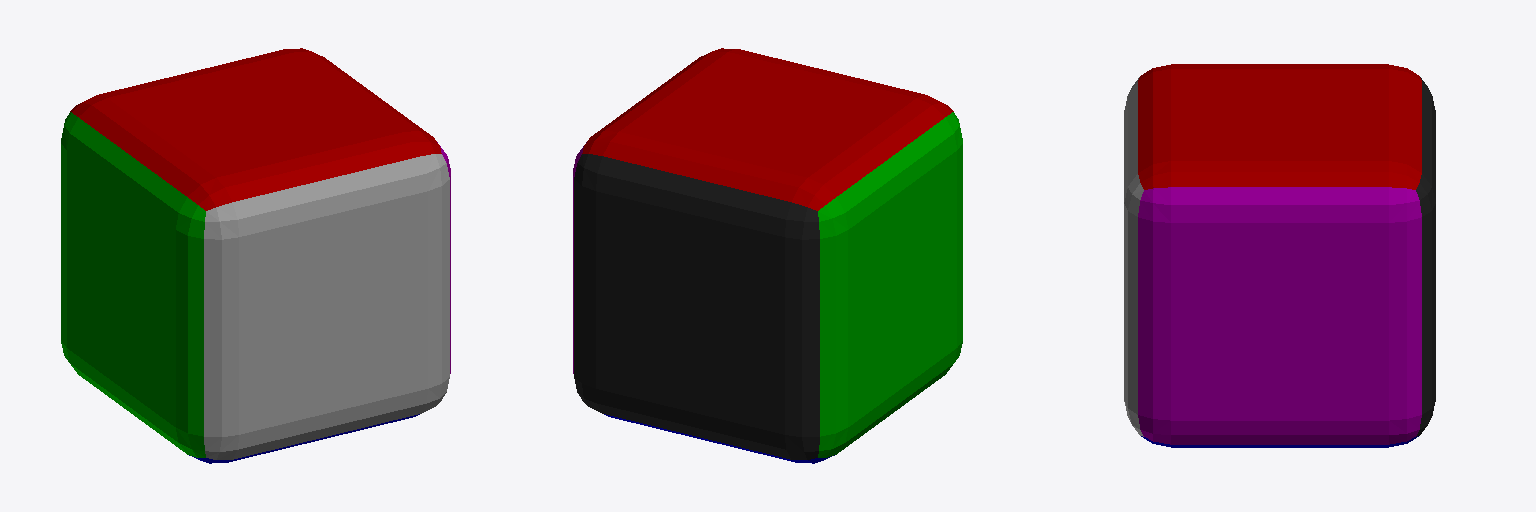
File: rounded_cube.obj
The picture shows the model from 3 angles: view 1: azimuth 30°, elevation 25°; view 2: azimuth 150°, elevation 25°; view 3: azimuth 270°, elevation 25°; orthographic projection.
Visible parts, largest first — view 1: Rounded_Cube_Front_Rounded_Cube_Cube_Front, Rounded_Cube_Left_Rounded_Cube_Cube_Left, Rounded_Cube_Top_Rounded_Cube_Cube_Top; view 2: Rounded_Cube_Back_Rounded_Cube_Cube_Back, Rounded_Cube_Left_Rounded_Cube_Cube_Left, Rounded_Cube_Top_Rounded_Cube_Cube_Top; view 3: Rounded_Cube_Right_Rounded_Cube_Cube_Right, Rounded_Cube_Top_Rounded_Cube_Cube_Top, Rounded_Cube_Front_Rounded_Cube_Cube_Front, Rounded_Cube_Back_Rounded_Cube_Cube_Back, Rounded_Cube_Bottom_Rounded_Cube_Cube_Bottom.
Part boxes in pixels (bbox=[...]): Rounded_Cube_Front_Rounded_Cube_Cube_Front: bbox=[204, 154, 449, 459]; Rounded_Cube_Left_Rounded_Cube_Cube_Left: bbox=[61, 112, 205, 457]; Rounded_Cube_Top_Rounded_Cube_Cube_Top: bbox=[70, 48, 441, 210]; Rounded_Cube_Back_Rounded_Cube_Cube_Back: bbox=[574, 154, 819, 459]; Rounded_Cube_Left_Rounded_Cube_Cube_Left: bbox=[818, 112, 962, 457]; Rounded_Cube_Top_Rounded_Cube_Cube_Top: bbox=[582, 48, 953, 210]; Rounded_Cube_Right_Rounded_Cube_Cube_Right: bbox=[1138, 187, 1421, 444]; Rounded_Cube_Top_Rounded_Cube_Cube_Top: bbox=[1138, 64, 1421, 189]; Rounded_Cube_Front_Rounded_Cube_Cube_Front: bbox=[1124, 77, 1143, 436]; Rounded_Cube_Back_Rounded_Cube_Cube_Back: bbox=[1416, 77, 1435, 436]; Rounded_Cube_Bottom_Rounded_Cube_Cube_Bottom: bbox=[1141, 436, 1418, 447].
Size of the model in its own units: 1 by 1 by 1.